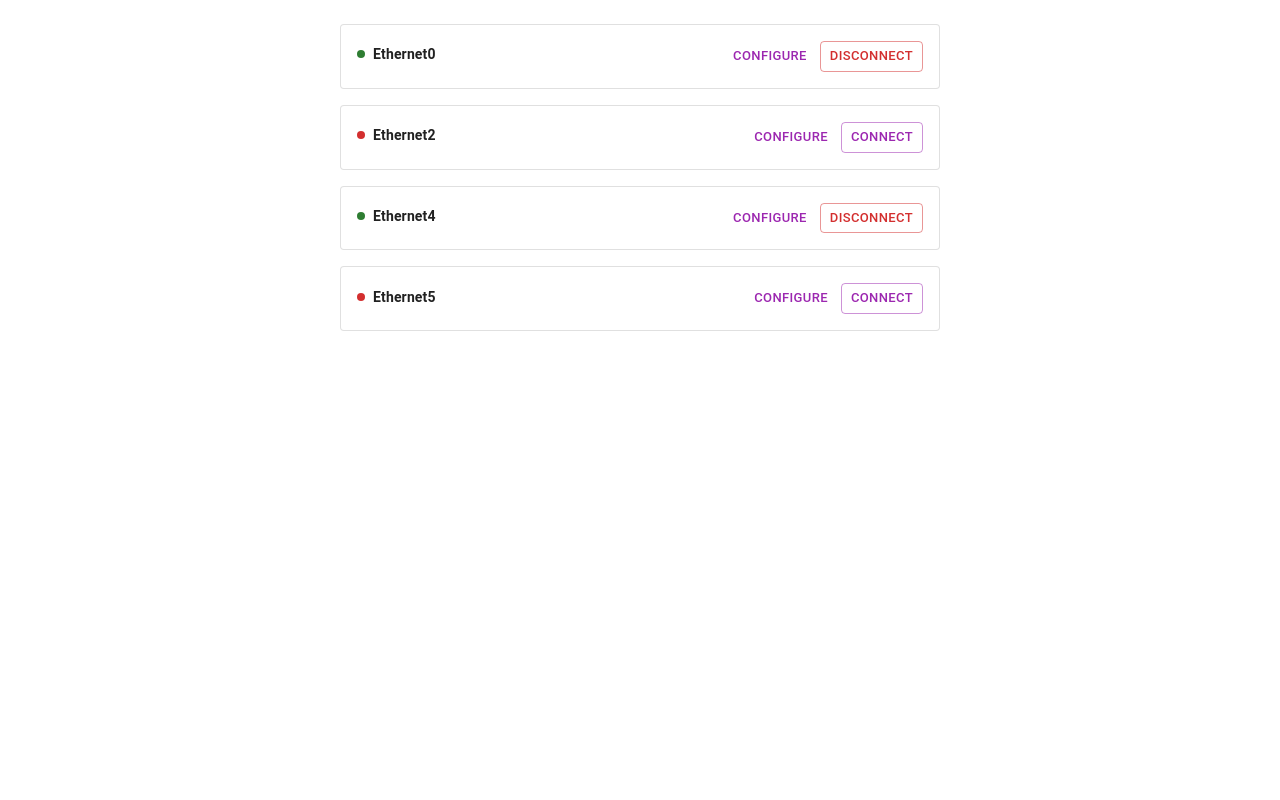
Connect on a newly added (unconfigured) interface › does not connect when the modal is cancelled
Click the button with aria-label "Connect Ethernet5". click: click(882, 299)
box: [841, 283, 923, 314]
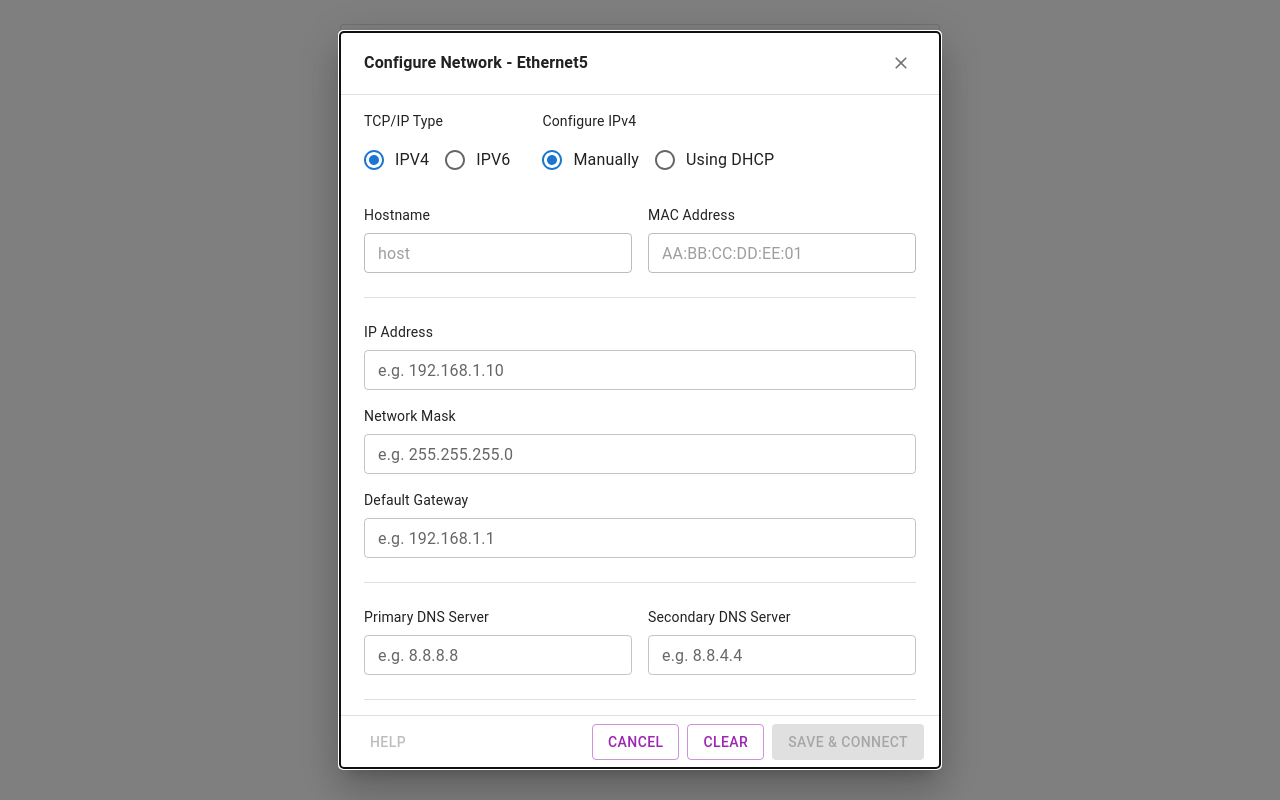
Click the button "Cancel". click: click(636, 742)
box: [592, 724, 680, 760]
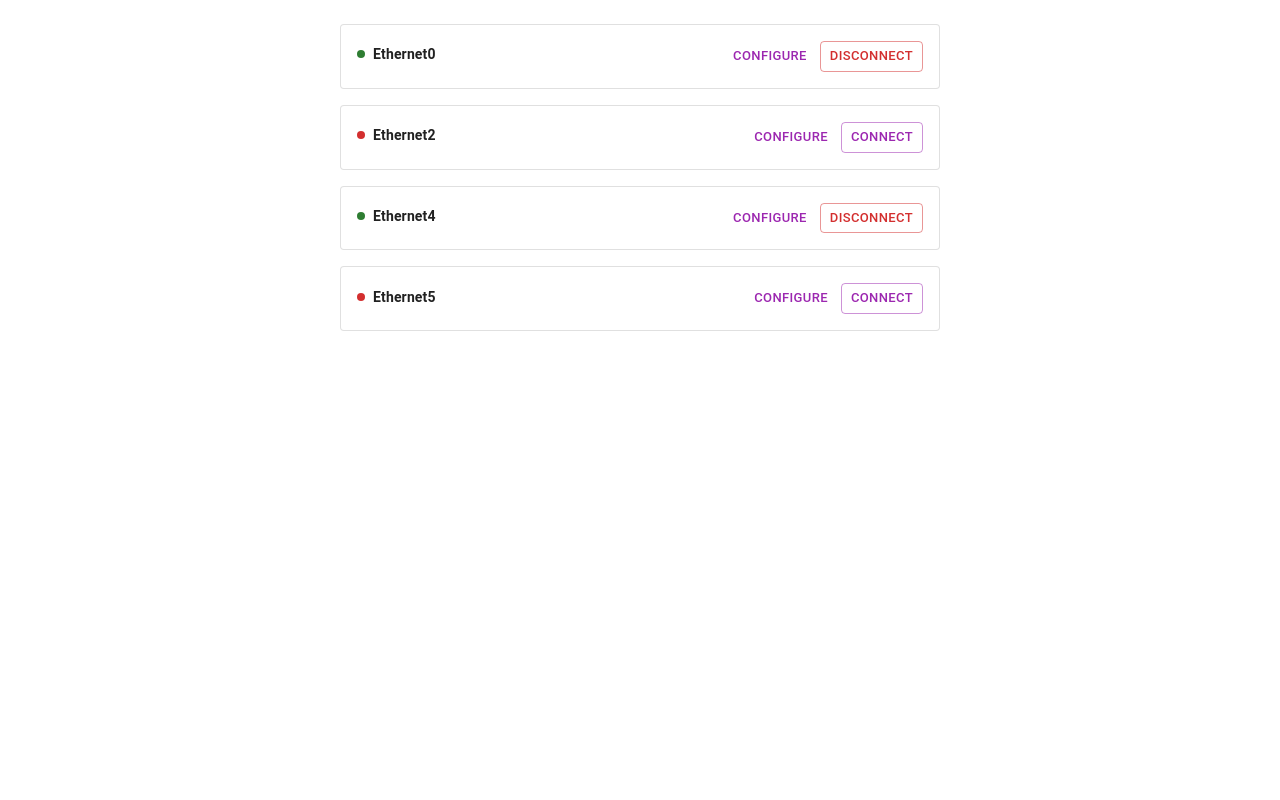
Now the dialog is gone
